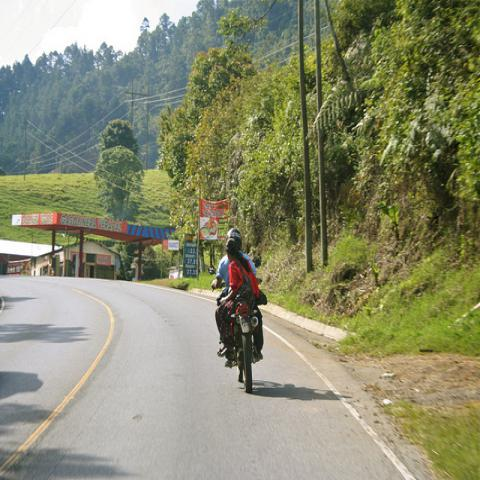motorcycle: (207, 265, 258, 394)
